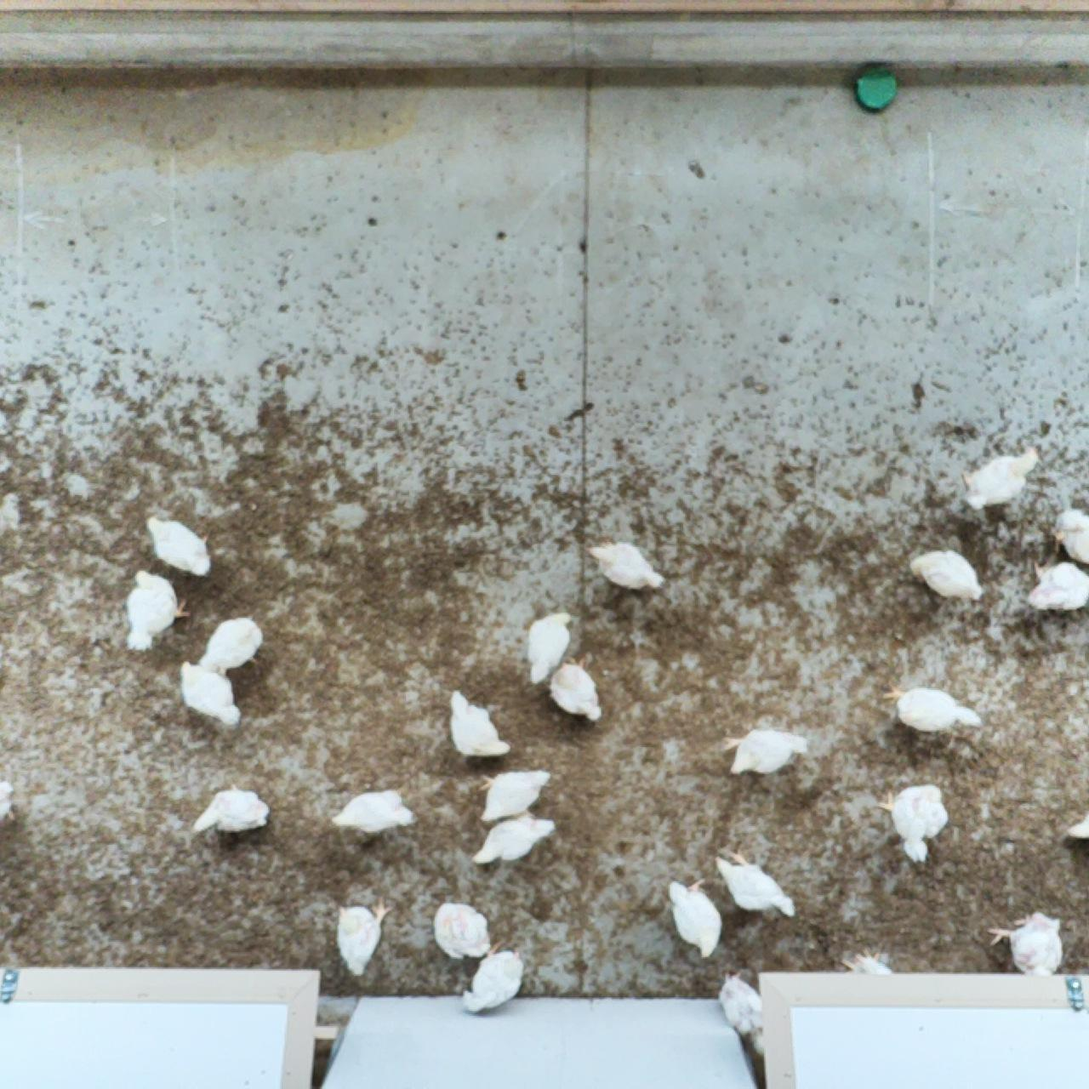chicken: (871, 780, 948, 865), (711, 849, 798, 920), (986, 905, 1063, 985), (712, 968, 778, 1059), (880, 681, 984, 738), (961, 442, 1042, 513), (124, 569, 190, 655), (472, 805, 556, 871), (837, 947, 906, 1019), (458, 940, 525, 1014), (195, 613, 267, 680), (666, 875, 724, 957), (582, 539, 666, 595), (433, 899, 505, 964), (328, 786, 418, 838), (177, 657, 244, 726), (144, 511, 215, 575), (335, 898, 391, 978), (908, 547, 986, 604), (720, 728, 810, 777), (446, 690, 510, 758), (192, 783, 272, 837), (476, 768, 554, 822), (524, 611, 577, 686), (548, 657, 604, 727), (1025, 556, 1089, 614), (1044, 503, 1089, 567), (1063, 806, 1089, 848), (0, 773, 20, 824)
